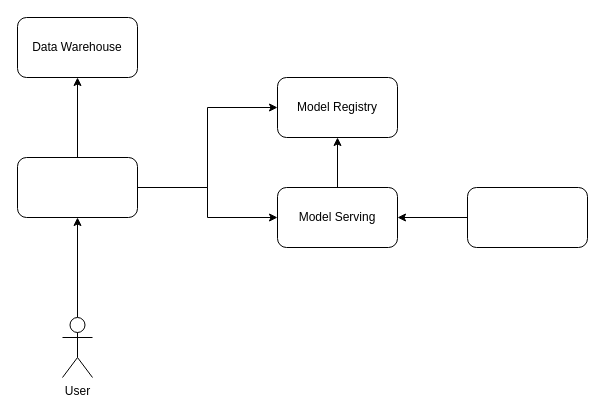
Some shapes in this 605 by 416 pixel diagram are drawn without their labels. The shapes that lost their labels are listed below. From the top down, each one's centre as x and y in pixels, then its label:
point (77, 187): Development Env
point (527, 217): Logging
